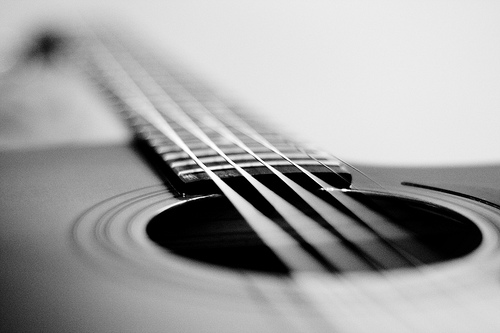guitar: (1, 24, 500, 333)
